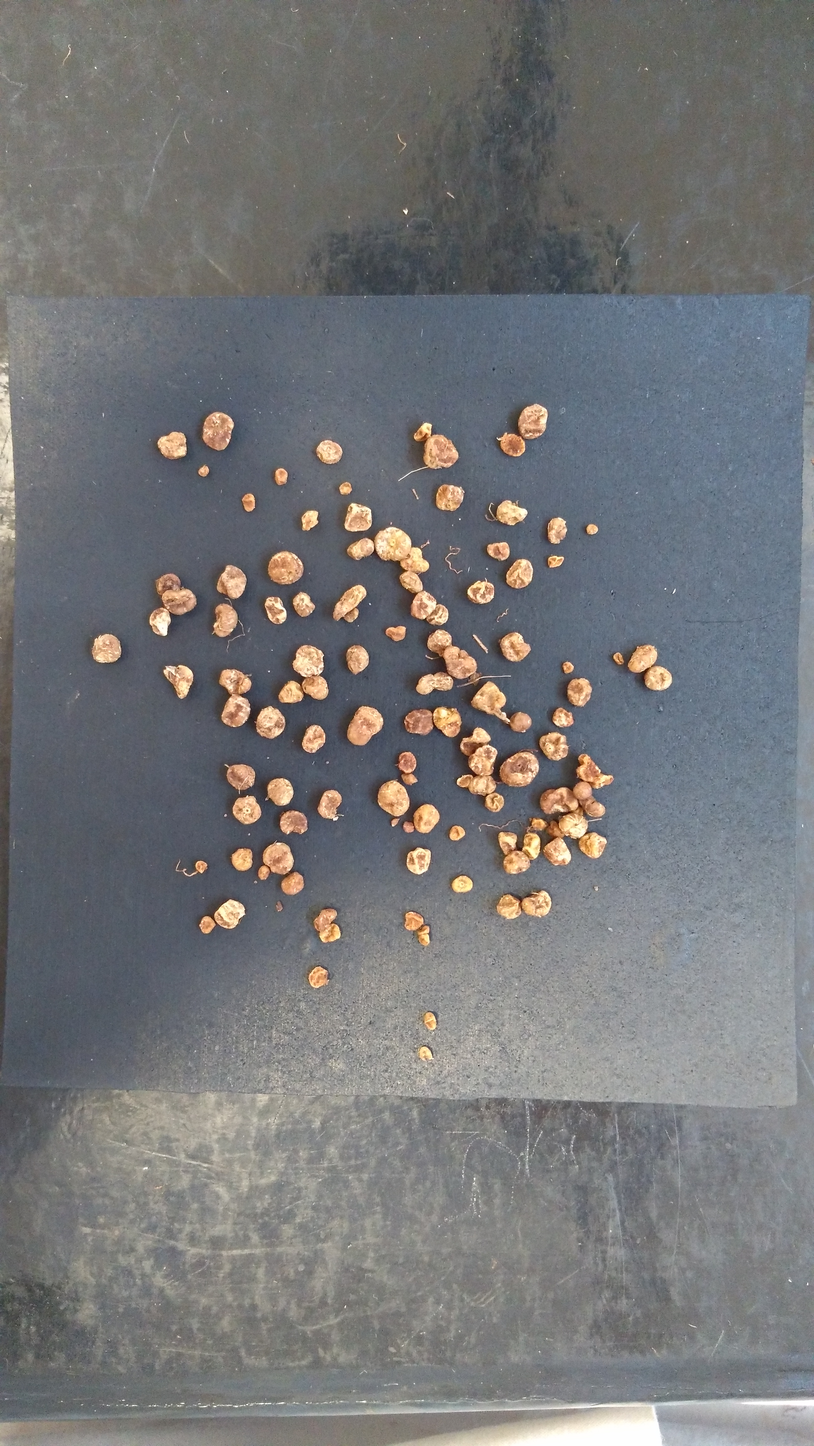nodule: (198, 409, 243, 459), (344, 702, 386, 746), (497, 748, 542, 789), (86, 629, 131, 669), (421, 431, 461, 474), (328, 579, 368, 622), (157, 660, 196, 703), (370, 526, 414, 564), (265, 550, 307, 588), (491, 630, 535, 666), (289, 640, 329, 679), (213, 563, 251, 603), (573, 754, 616, 789), (439, 643, 479, 679), (218, 690, 254, 730), (469, 679, 507, 716), (374, 779, 411, 817), (260, 841, 297, 879), (492, 495, 532, 530), (434, 480, 471, 517), (539, 785, 582, 816), (154, 427, 190, 464), (209, 600, 243, 639), (216, 666, 256, 699), (535, 731, 571, 767), (265, 773, 299, 810), (159, 586, 200, 616), (626, 641, 661, 676), (341, 640, 374, 677), (517, 402, 549, 440), (519, 889, 557, 921), (212, 897, 248, 930), (504, 555, 537, 590), (458, 725, 494, 757), (254, 705, 286, 741), (312, 436, 346, 469), (467, 743, 499, 778), (343, 533, 376, 566), (402, 705, 435, 738), (402, 844, 435, 877), (229, 794, 261, 828), (412, 801, 443, 836), (562, 675, 593, 710), (432, 704, 462, 740), (223, 764, 259, 794), (413, 669, 454, 695), (408, 590, 440, 623), (541, 835, 575, 866), (558, 808, 590, 839), (278, 806, 309, 838), (423, 628, 456, 658), (642, 664, 675, 694), (398, 545, 432, 574), (343, 501, 374, 532), (317, 785, 343, 821), (298, 673, 330, 702), (262, 593, 290, 626), (146, 606, 174, 639), (298, 507, 328, 537), (579, 794, 614, 819), (498, 431, 528, 460), (301, 723, 326, 757), (289, 588, 318, 617), (501, 848, 531, 876), (309, 906, 341, 932), (578, 831, 608, 858), (466, 772, 497, 798), (546, 515, 571, 547), (276, 679, 304, 707), (495, 892, 523, 920), (466, 578, 495, 605), (154, 571, 186, 595), (397, 567, 425, 594), (549, 703, 577, 730), (424, 602, 453, 628), (229, 845, 255, 874), (279, 871, 308, 897), (506, 707, 534, 733), (316, 922, 344, 947), (494, 829, 519, 856), (306, 963, 330, 991), (485, 539, 511, 564), (417, 1042, 442, 1067), (395, 749, 419, 775), (521, 830, 542, 859), (269, 465, 294, 489), (484, 790, 508, 814), (421, 1008, 443, 1034), (449, 872, 476, 893), (381, 623, 409, 643), (403, 909, 427, 932), (415, 924, 437, 949), (412, 419, 433, 445), (542, 817, 565, 840), (197, 914, 218, 936), (573, 780, 594, 800), (446, 824, 467, 843), (528, 816, 550, 834), (455, 773, 476, 791), (195, 460, 213, 481), (398, 770, 421, 786), (341, 606, 361, 624), (544, 554, 566, 570), (193, 858, 211, 877), (240, 492, 257, 512), (256, 864, 273, 882), (560, 658, 576, 675), (398, 818, 414, 835), (339, 479, 353, 495), (387, 815, 403, 829), (585, 521, 599, 536), (612, 652, 626, 666)
